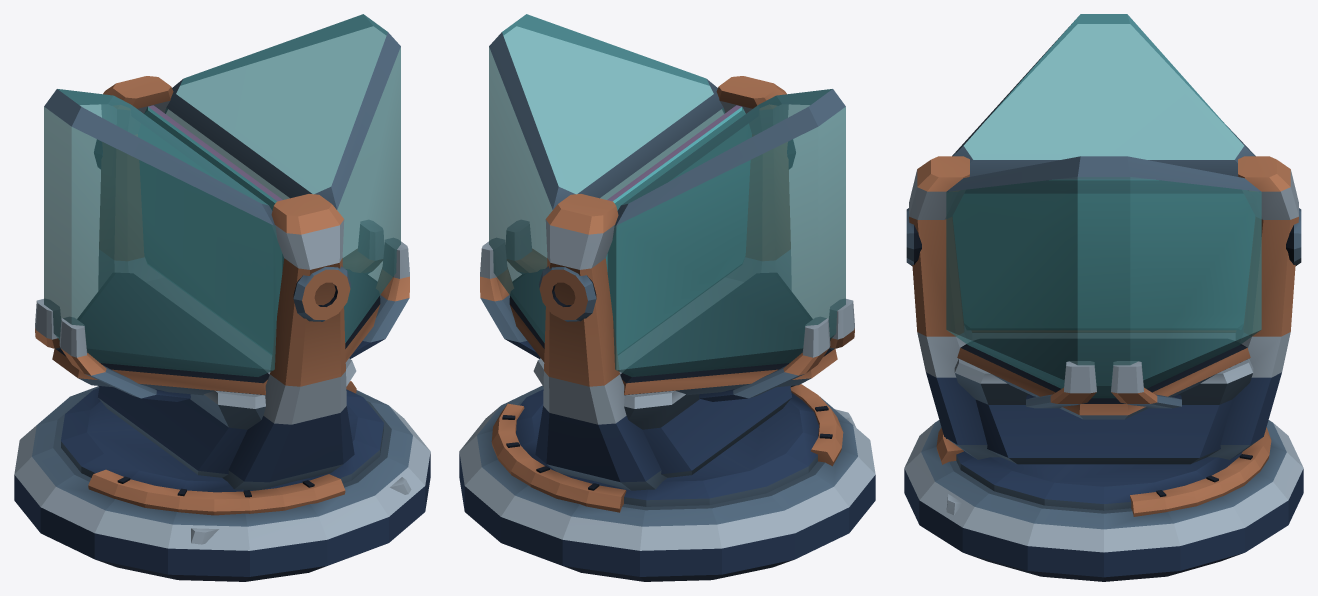
File: splitter.glb
3 views of the same model, side by side, from view 1: azimuth 30°, elevation 25°; view 2: azimuth 150°, elevation 25°; view 3: azimuth 270°, elevation 25° (orthographic). The views are drawn at different scales.
Visible parts, largest first — view 1: splitter; view 2: splitter; view 3: splitter.
Part boxes in pixels (x1,y1,x2,y2): splitter: [14, 14, 430, 581]; splitter: [459, 14, 875, 581]; splitter: [904, 14, 1303, 581].
Size of the model in its own units: 1.02 by 1.2 by 1.02.
